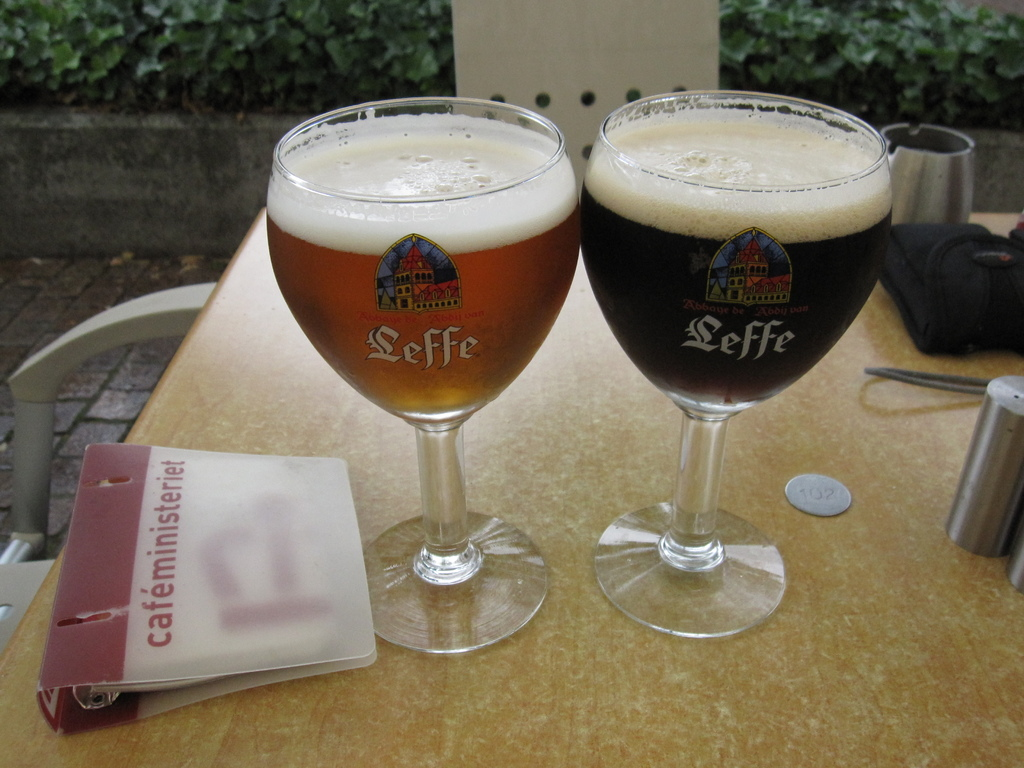Beer: (254, 78, 597, 677), (594, 78, 915, 677)
